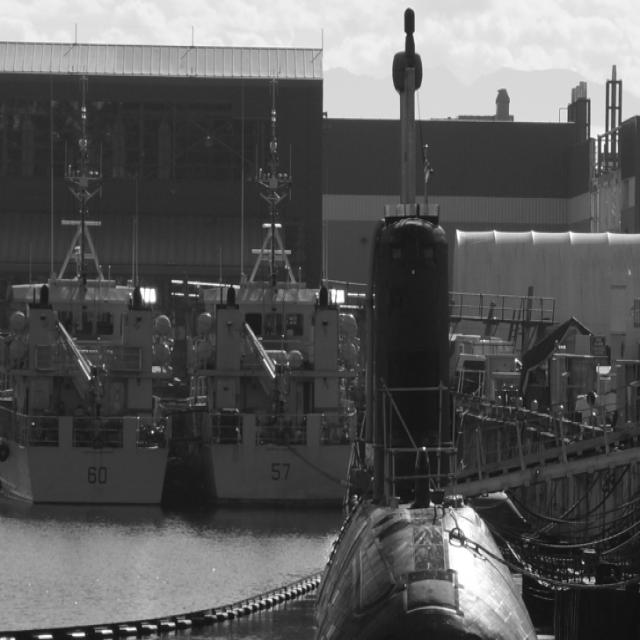submarine: (312, 216, 549, 640)
